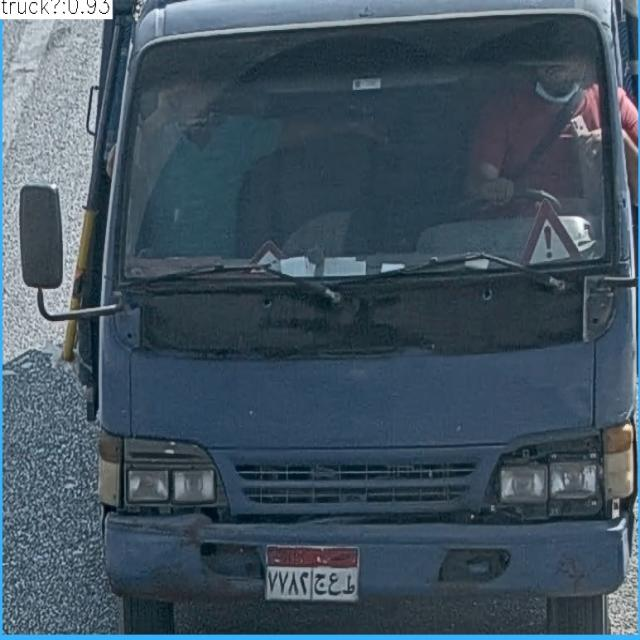windshield: (120, 19, 615, 276)
